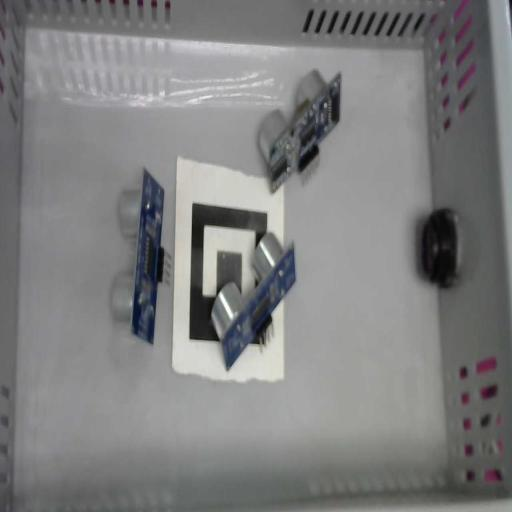ultrasonic_hc-sr04: (210, 232, 296, 371), (110, 166, 172, 346), (257, 68, 342, 194)
